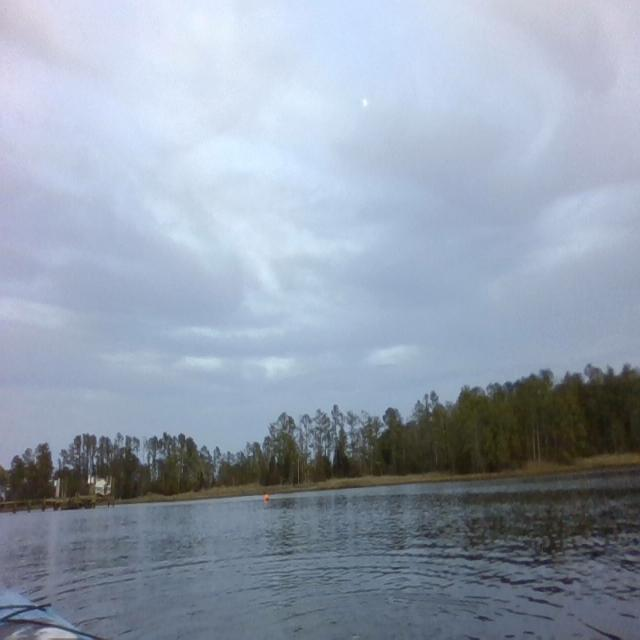Buoy: (264, 491, 271, 504)
